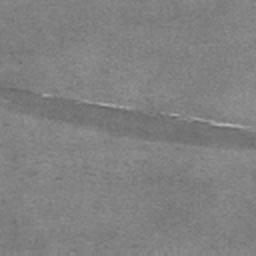Finishing roll printing: (0, 86, 256, 154)
